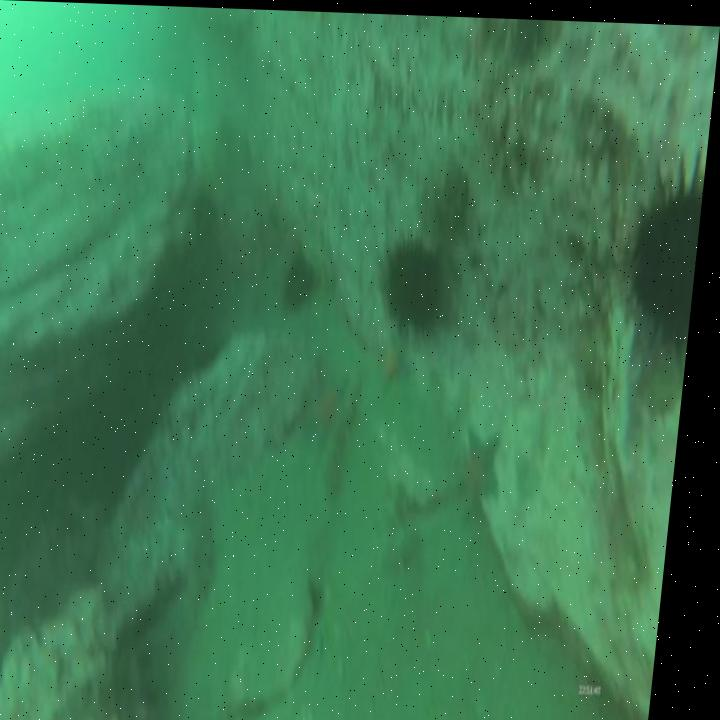echinus: (631, 175, 707, 334), (385, 239, 453, 326), (287, 251, 321, 301)
starfish: (465, 432, 513, 510), (319, 373, 355, 438), (383, 339, 418, 383)
